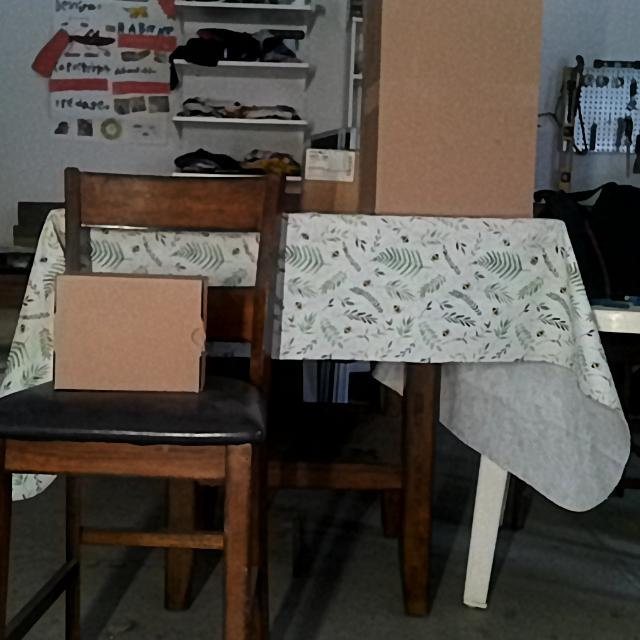box: (376, 0, 537, 214), (56, 275, 201, 393), (304, 150, 362, 214)
